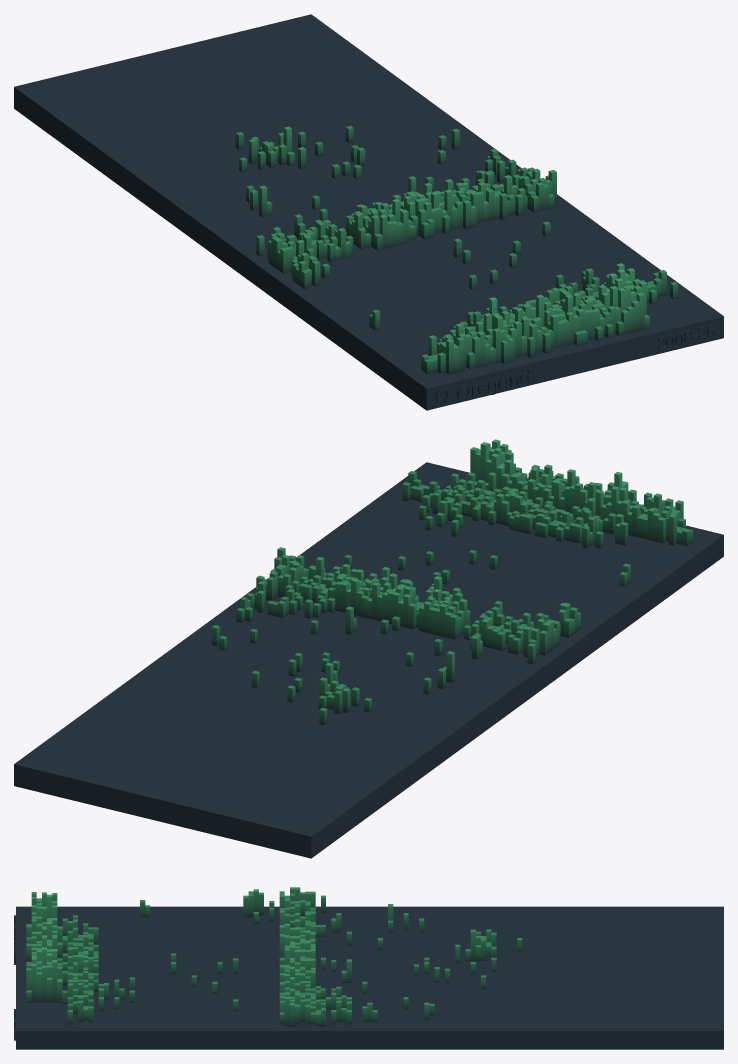
File: oregand-skyline.glb
The picture shows the model from 3 angles, top to bottom: view 1: azimuth 30°, elevation 25°; view 2: azimuth 150°, elevation 25°; view 3: azimuth 270°, elevation 25°; orthographic projection. The views are drawn at different scales.
Parts seen in each view (by area): view 1: Oregand 2008-2026 GitHub Skyline; view 2: Oregand 2008-2026 GitHub Skyline; view 3: Oregand 2008-2026 GitHub Skyline.
Boxes of the visible parts, <box> form: Oregand 2008-2026 GitHub Skyline: <box>14,14,723,410</box>; Oregand 2008-2026 GitHub Skyline: <box>14,439,723,858</box>; Oregand 2008-2026 GitHub Skyline: <box>14,887,723,1049</box>.
Bounding box in the file's own units: 142 × 35.01 × 344.
